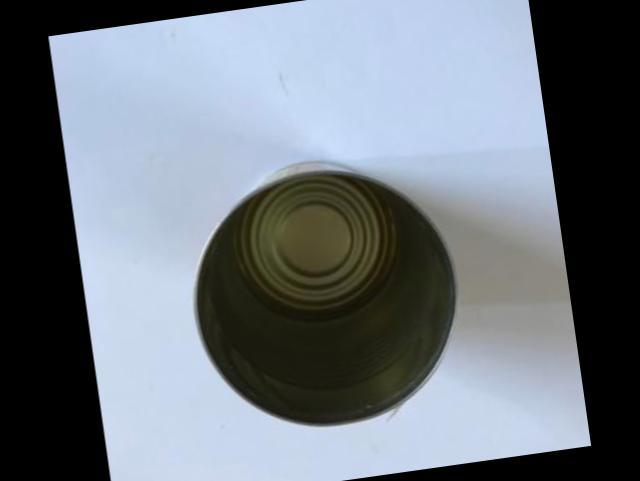metal: (199, 171, 458, 425)
